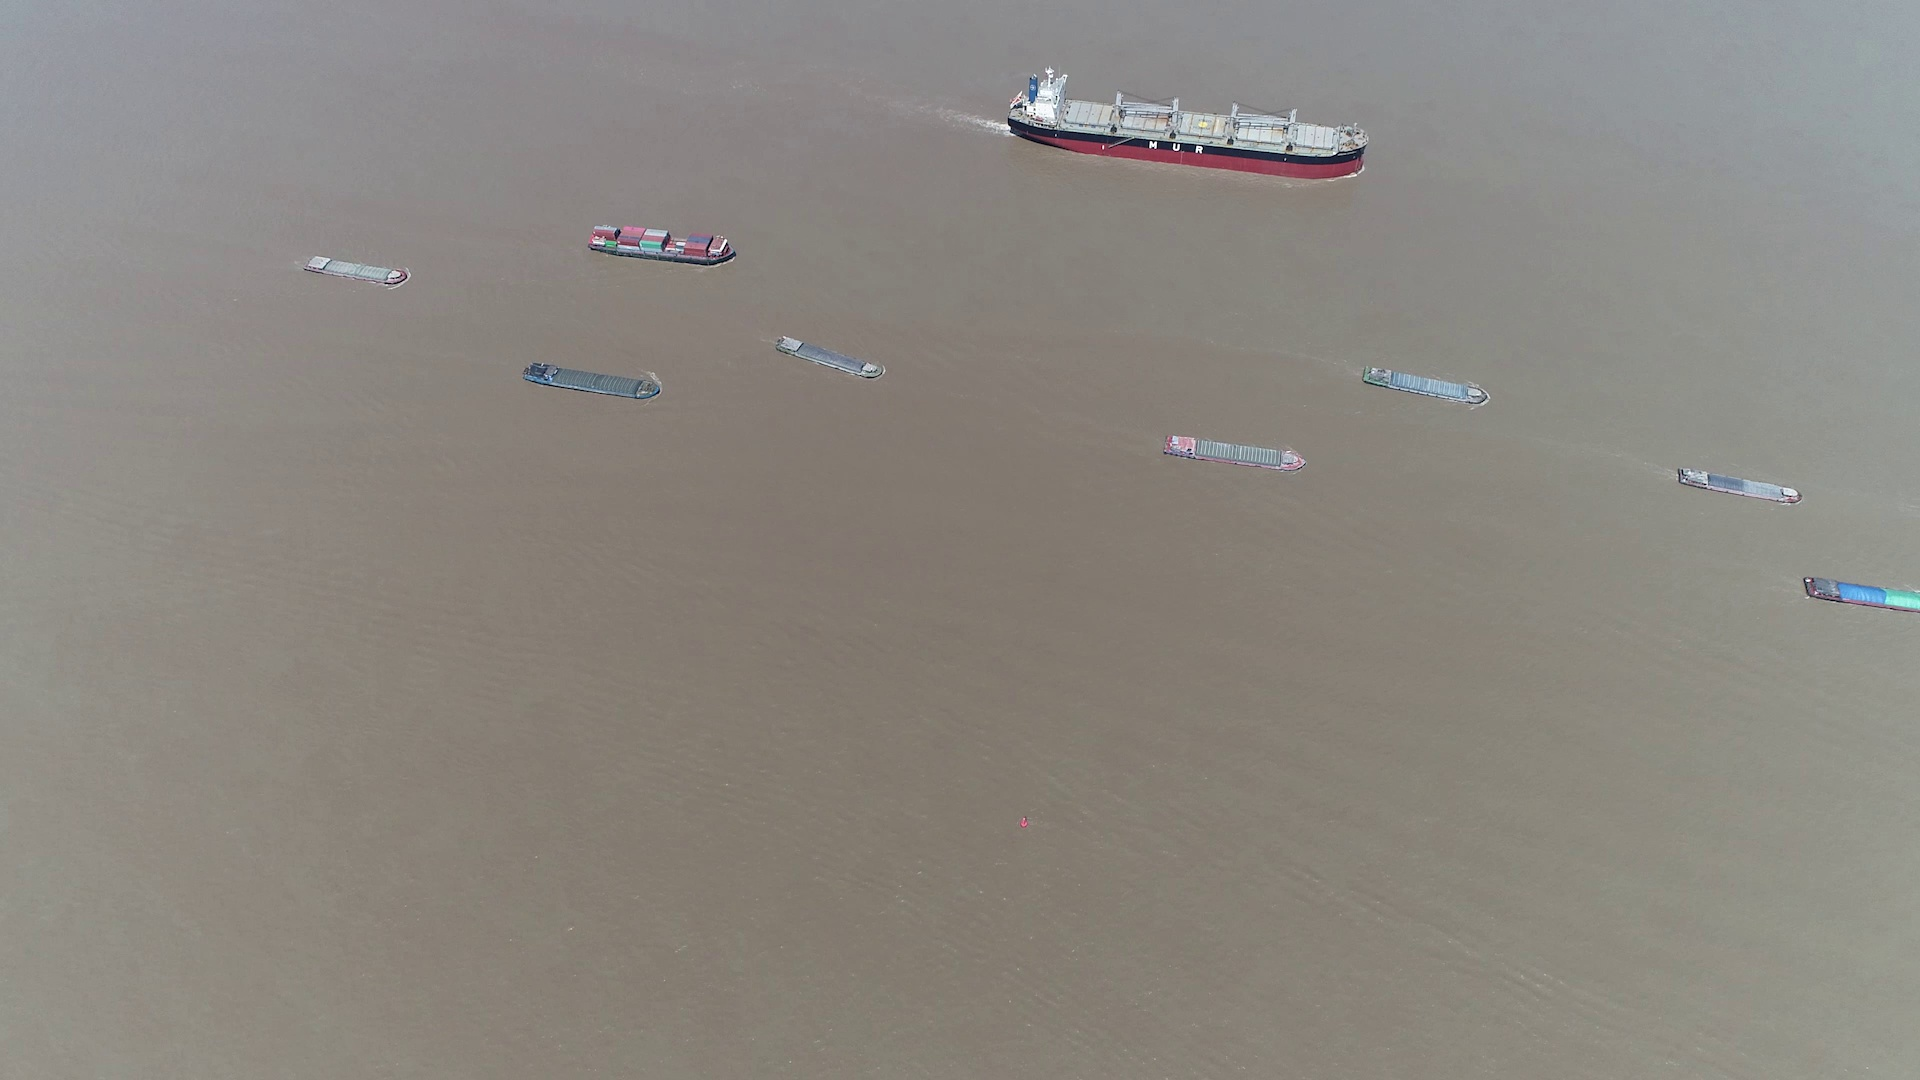ship: (1009, 71, 1366, 175), (589, 225, 736, 266), (1164, 433, 1305, 471), (522, 363, 663, 401), (775, 334, 887, 381), (1364, 365, 1491, 405), (1677, 465, 1803, 502), (1804, 576, 1919, 615), (302, 255, 410, 285)
